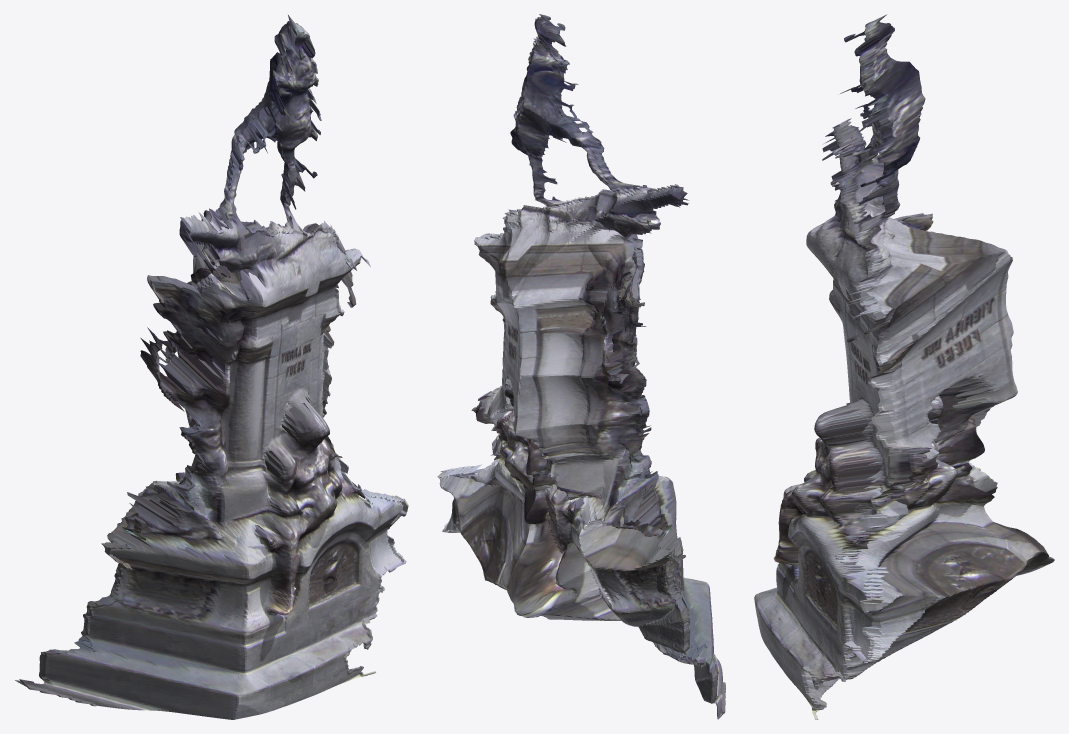
File: monumento_magallanes.glb
3 renders of one model, left to right at view 1: azimuth 30°, elevation 25°; view 2: azimuth 150°, elevation 25°; view 3: azimuth 270°, elevation 25°, orthographic. The views are drawn at different scales.
Parts seen in each view (by area): view 1: geometry_0; view 2: geometry_0; view 3: geometry_0.
Boxes of the visible parts, x1=… form: geometry_0: x1=15, y1=15, x2=408, y2=719; geometry_0: x1=437, y1=14, x2=725, y2=719; geometry_0: x1=754, y1=14, x2=1054, y2=719.
Bounding box in the file's own units: 0.5473 × 1 × 0.401.
1 material, 1 textured.
